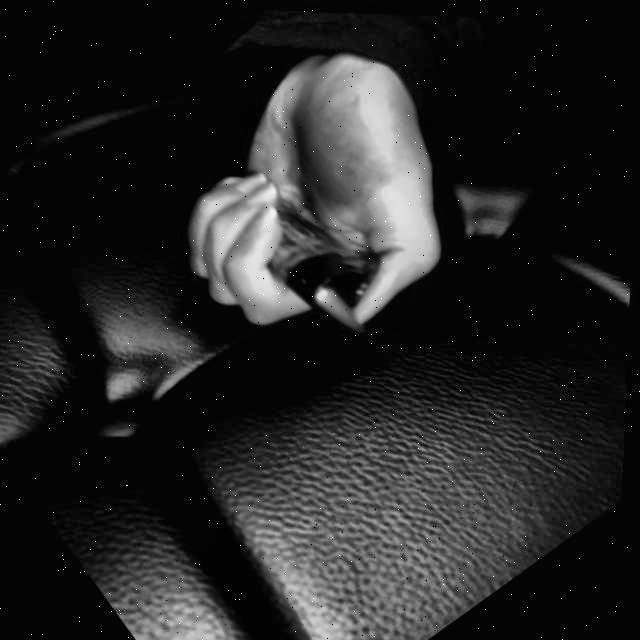Fire: (304, 270, 379, 349)
